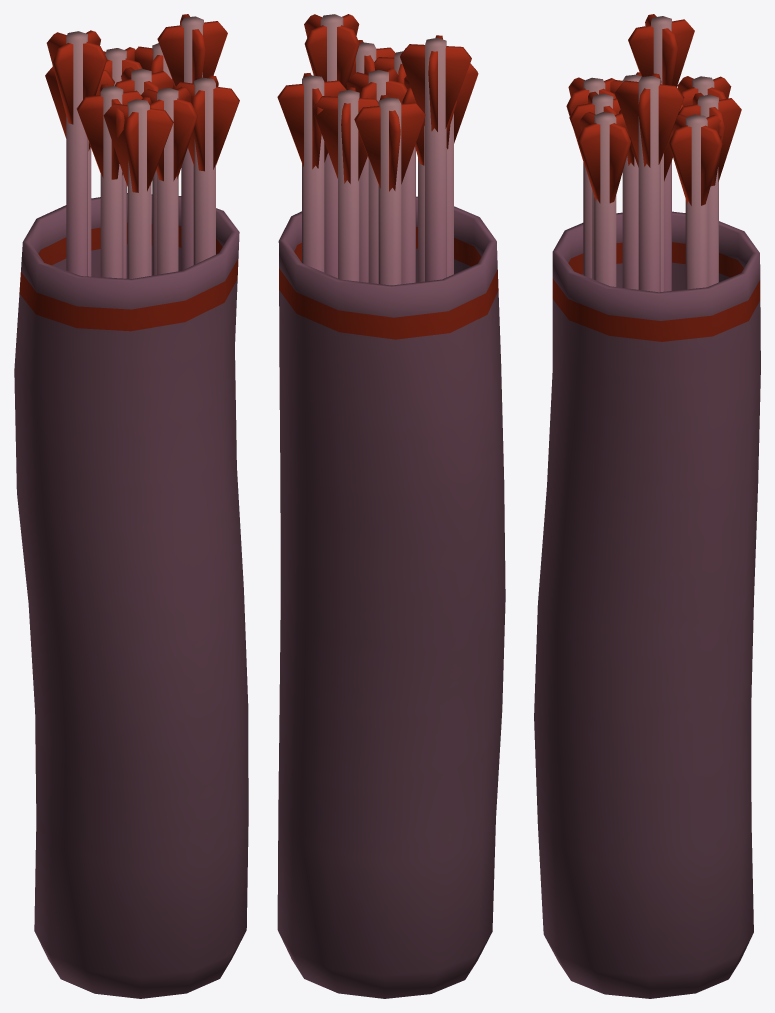
The model's file is Proto_Arrows_Carcaj_01 .fbx.
3 renders of one model, left to right at view 1: azimuth 30°, elevation 25°; view 2: azimuth 150°, elevation 25°; view 3: azimuth 270°, elevation 25°, orthographic. The views are drawn at different scales.
Parts seen in each view (by area): view 1: Proto_Arrows_Carcaj_01; view 2: Proto_Arrows_Carcaj_01; view 3: Proto_Arrows_Carcaj_01.
Part boxes in pixels (bbox=[...]): Proto_Arrows_Carcaj_01: bbox=[14, 14, 248, 998]; Proto_Arrows_Carcaj_01: bbox=[277, 14, 505, 998]; Proto_Arrows_Carcaj_01: bbox=[534, 14, 760, 998].
Bounding box in the file's own units: 12.5 × 56.78 × 12.61.
